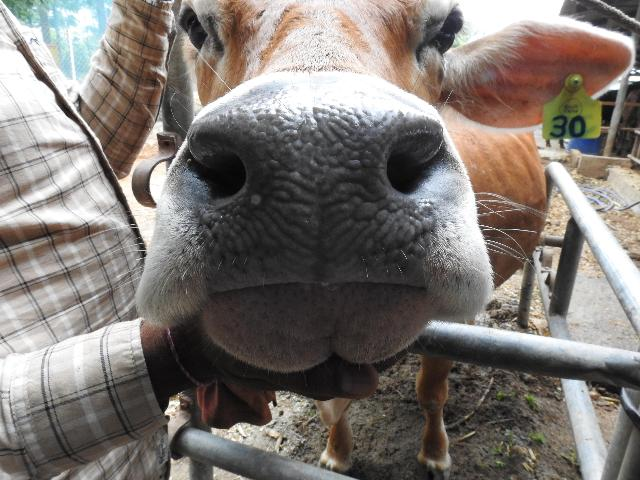Muzzle: (252, 94, 386, 282)
